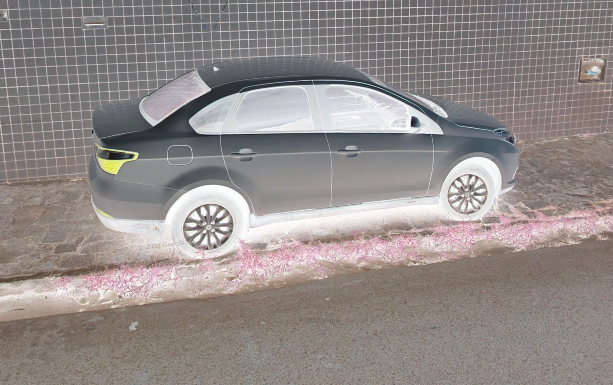car: (85, 51, 521, 264)
